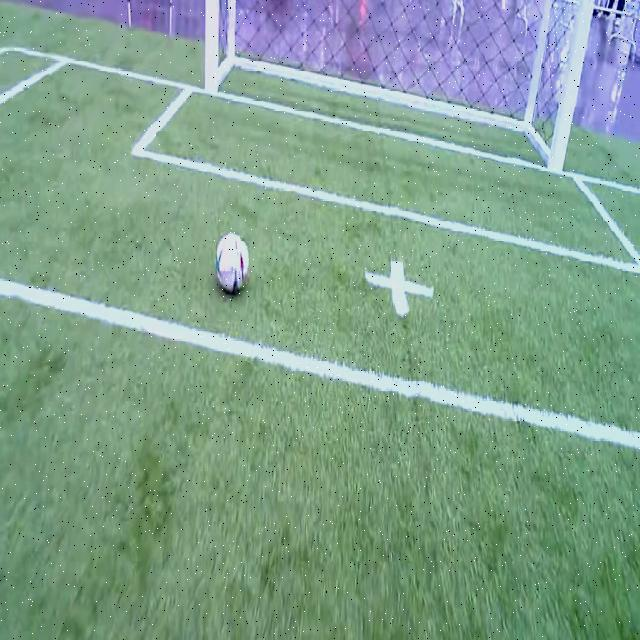ball: (214, 229, 248, 293)
